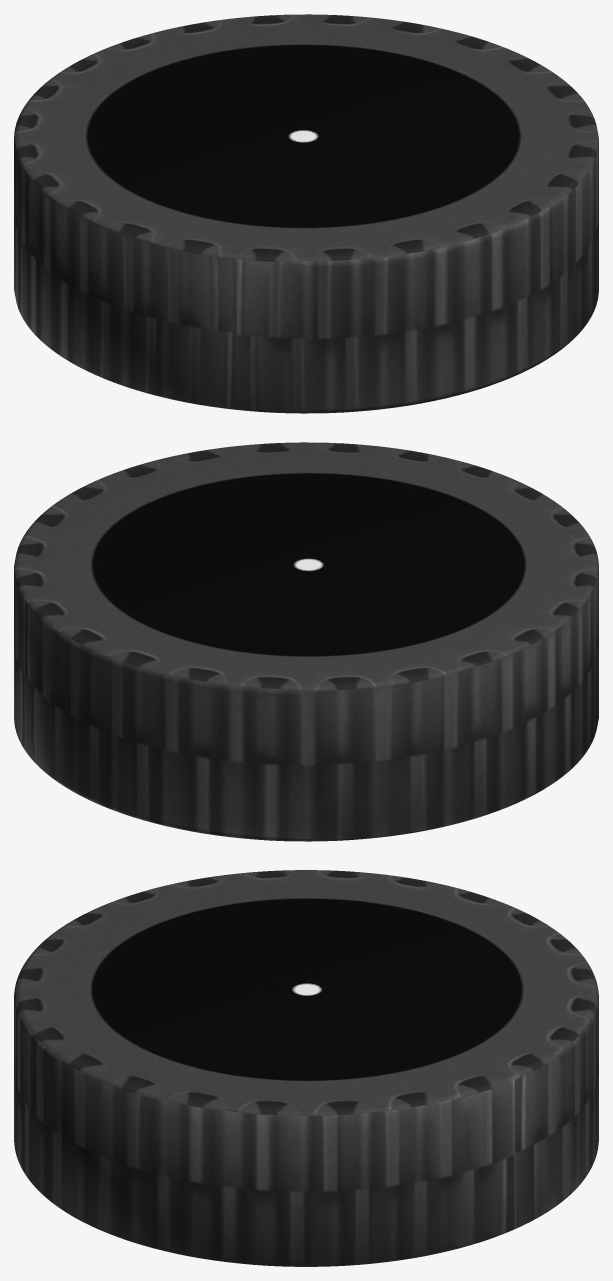
File: wheel.glb
3 renders of one model, top to bottom at view 1: azimuth 30°, elevation 25°; view 2: azimuth 150°, elevation 25°; view 3: azimuth 270°, elevation 25°, orthographic.
Parts seen in each view (by area): view 1: main_wheel; view 2: main_wheel; view 3: main_wheel.
Boxes of the visible parts, box(x1,y1,x2,y2) form: main_wheel: box(14, 14, 598, 413); main_wheel: box(14, 442, 598, 841); main_wheel: box(14, 870, 598, 1266).
Bounding box in the file's own units: 0.0698 × 0.0206 × 0.0704.
1 material, 1 textured.
